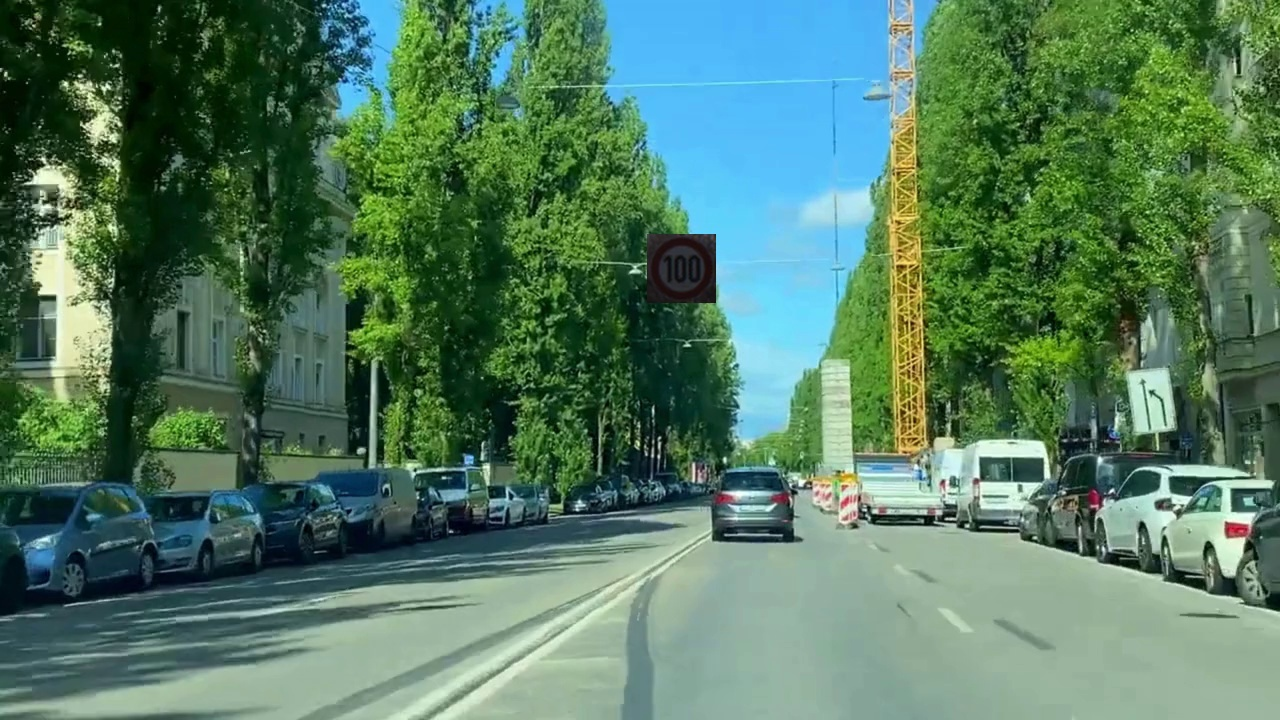Speed 100: (647, 234, 716, 303)
